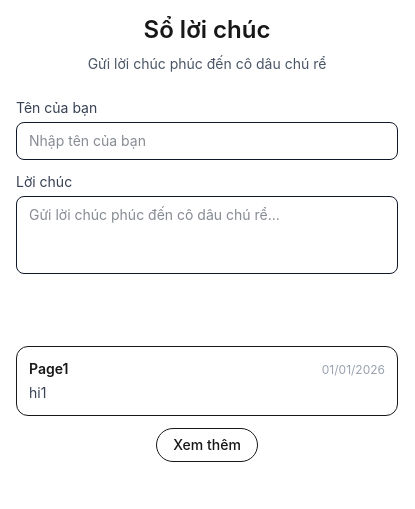
Test case: WishesSection › tells the guest when 'Xem thêm' fails because the network drops, and keeps the button so they can retry
Expected: the text "Page1" is shown, [29, 359, 68, 379]
Click the button "Xem thêm".
click(207, 445)  # box [156, 428, 258, 462]
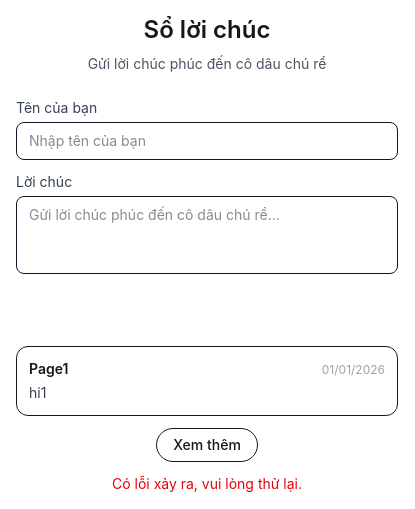
Expected: the text "Có lỗi xảy ra, vui lòng thử lại." is shown, [112, 475, 302, 492]
